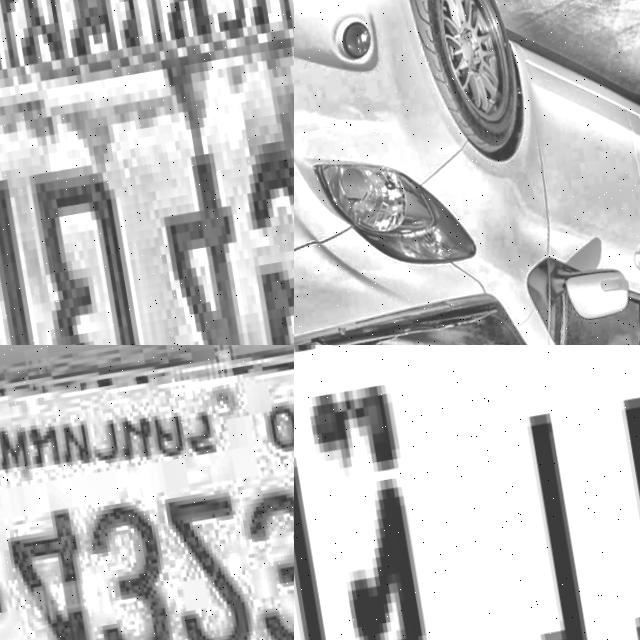license-plate: (294, 345, 640, 640), (0, 0, 294, 345), (0, 345, 294, 640)
